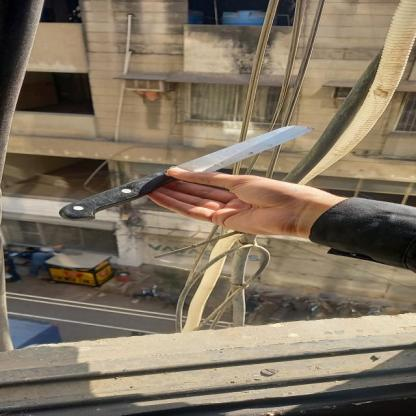Knife: (62, 122, 316, 224)
